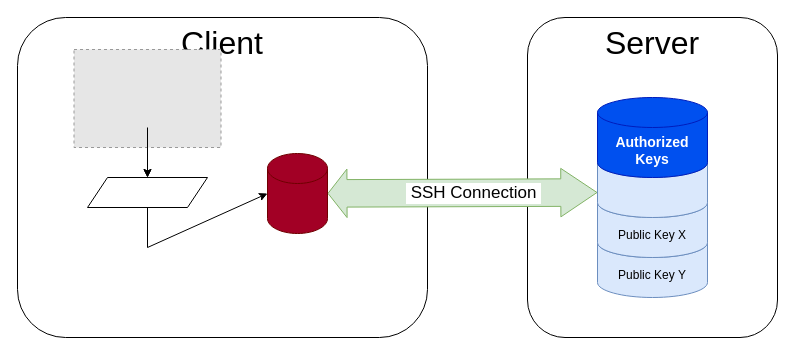
Some shapes in this 795 by 355 pixel diagram are drawn without their labels. Grey dashed boxes stand in for pictures. Each missing label, with the centre of its shape:
Passphrase A: the point at 147,192
Private Key A: the point at 297,193
Public Key A: the point at 652,182
